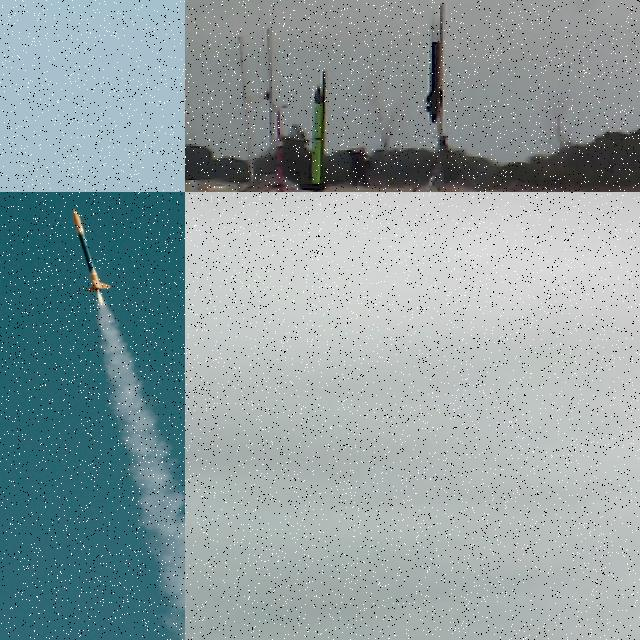Rocket: (72, 208, 111, 293), (424, 7, 444, 124), (312, 86, 324, 184)
